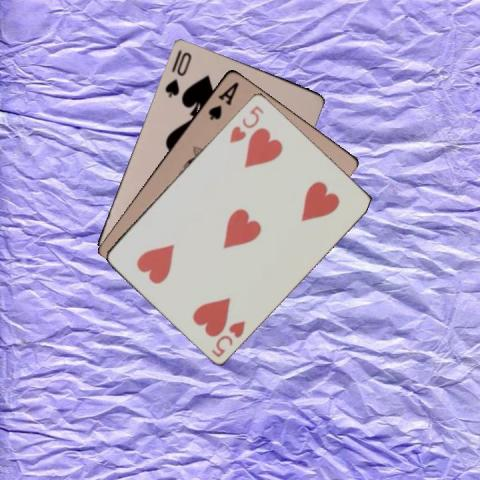10s: (161, 49, 193, 98)
5h: (226, 102, 266, 144), (208, 317, 246, 358)
As: (205, 78, 241, 121)
